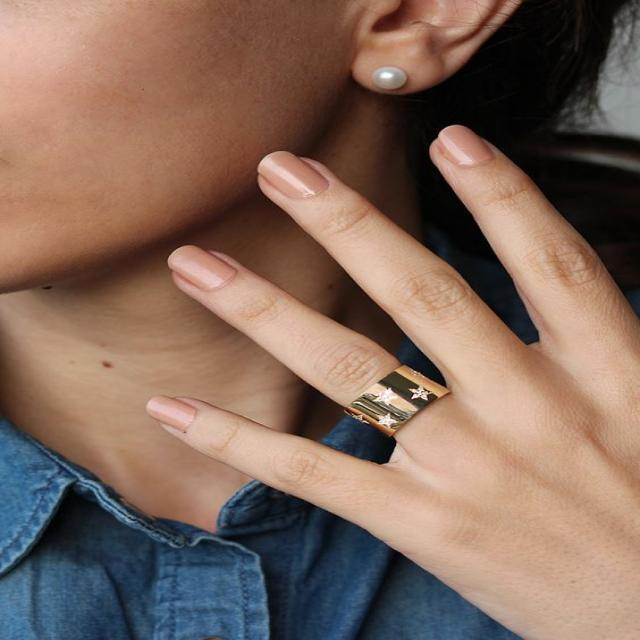Fingernail: (259, 152, 329, 201), (168, 244, 238, 292), (438, 124, 493, 170), (146, 394, 194, 432)
